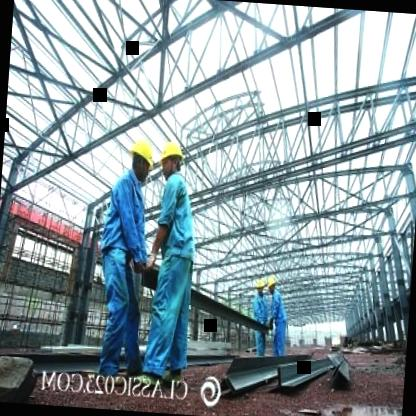helmet: (158, 140, 186, 178), (128, 138, 156, 176), (265, 272, 277, 296), (253, 276, 266, 298)
